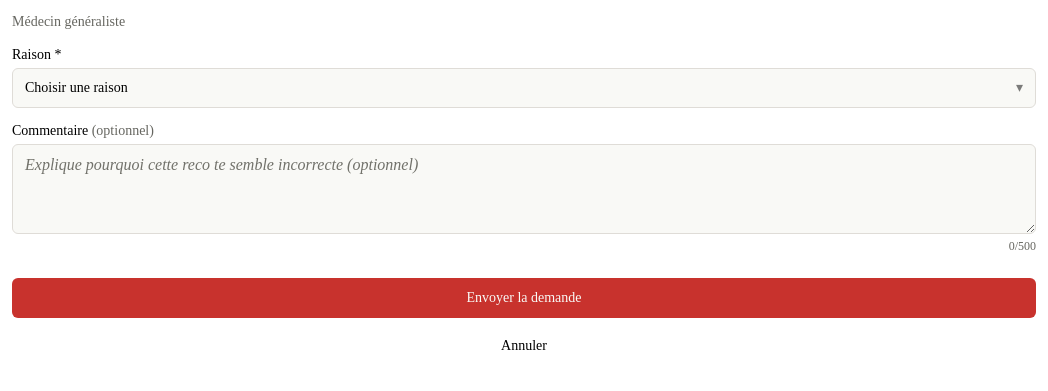
Test: ReviewRequestForm › shows validation error when submitted without reason
Click the button "Envoyer la demande" at x=524, y=298, box [12,278,1036,318]
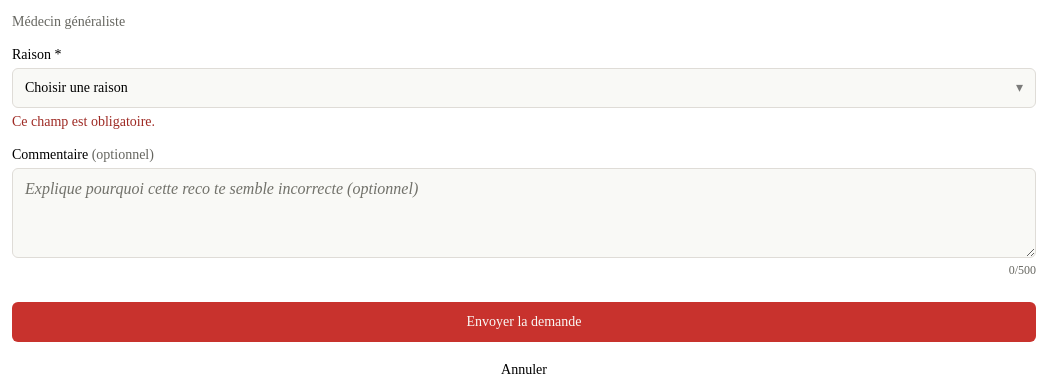
Expected: the text "Ce champ est obligatoire." is shown, [12,114,155,129]
